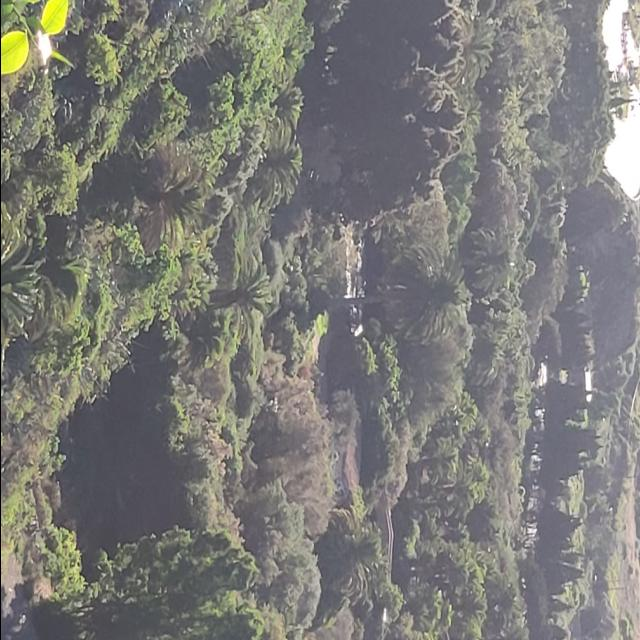Palm-Trees: (339, 247, 463, 347), (124, 148, 202, 254), (318, 511, 384, 605), (207, 256, 270, 334), (248, 127, 302, 213), (462, 227, 511, 291)
